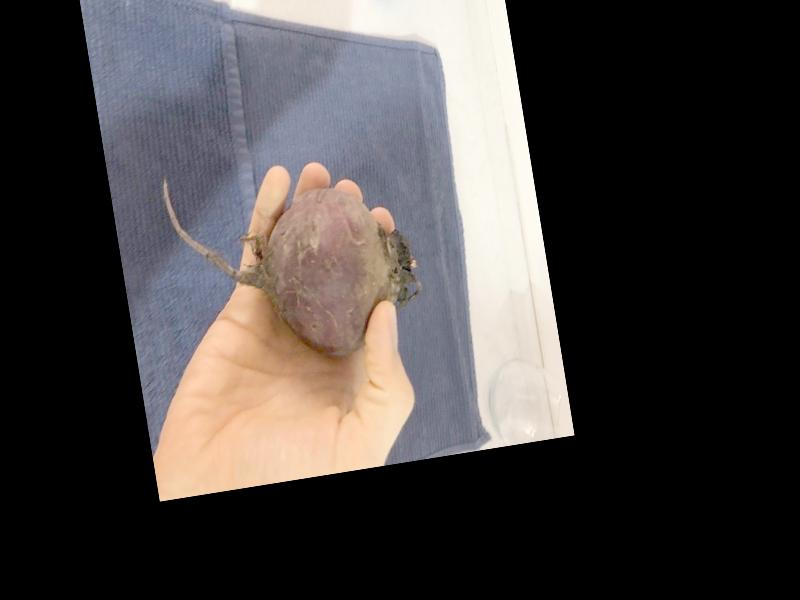Beet: (160, 139, 429, 381)
